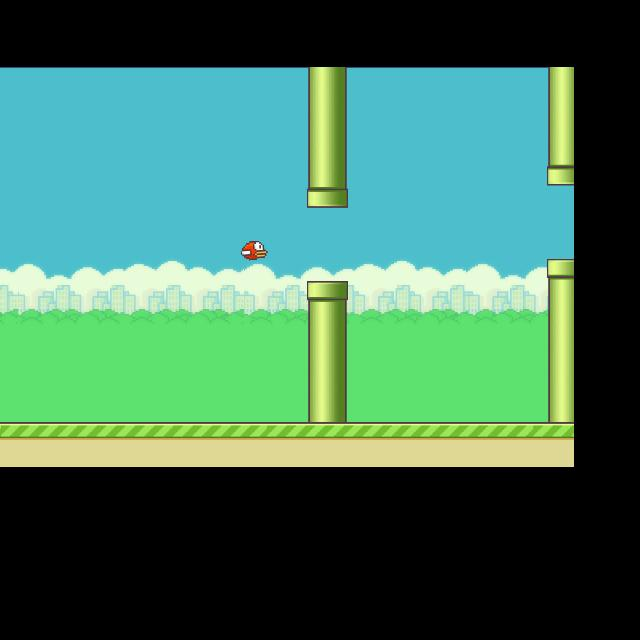bird: (240, 240, 267, 259)
pipedown: (307, 281, 347, 421), (547, 259, 574, 405)
pipeup: (308, 73, 348, 208), (547, 75, 572, 186)
